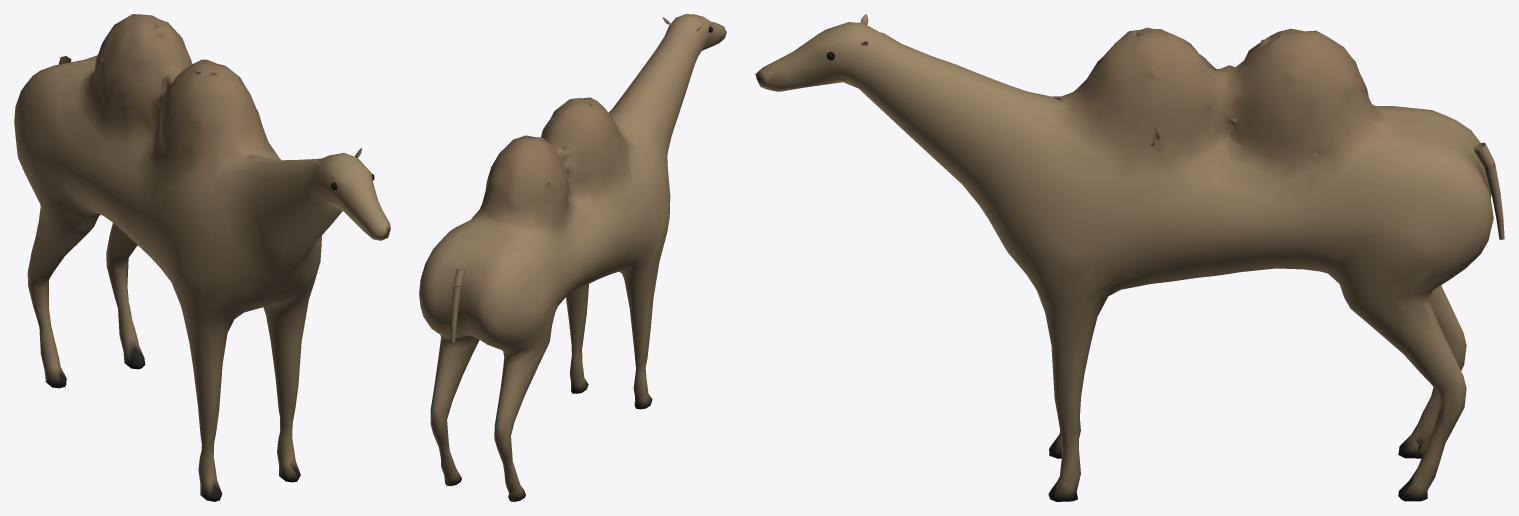
File: trampeltier.glb
3 views of the same model, side by side, from view 1: azimuth 30°, elevation 25°; view 2: azimuth 150°, elevation 25°; view 3: azimuth 270°, elevation 25° (orthographic). The views are drawn at different scales.
Parts seen in each view (by area): view 1: lack; view 2: lack; view 3: lack.
Boxes of the visible parts, x1,y1,x2,y2 form: lack: (14,14,390,501); lack: (419,14,726,501); lack: (755,14,1504,501).
Size of the model in its own units: 0.9113 by 2.45 by 3.68.
